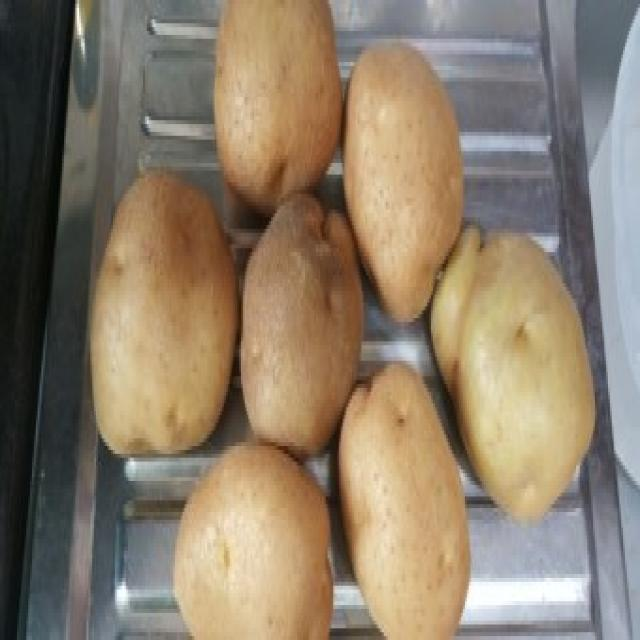potato: (429, 214, 600, 526), (86, 166, 242, 466), (339, 353, 474, 640), (238, 181, 368, 451), (345, 37, 468, 320), (170, 440, 337, 640), (208, 0, 352, 207)
